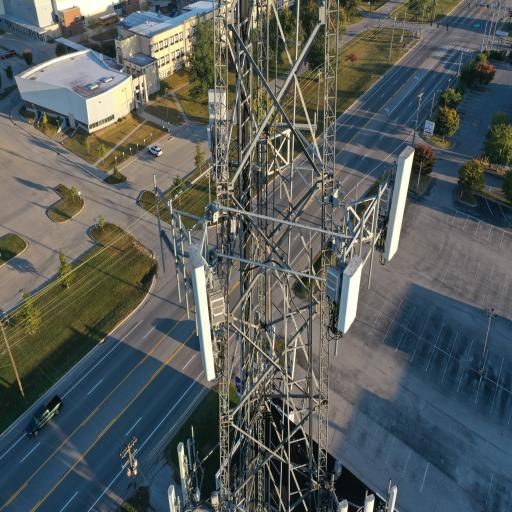supporting_tower: (145, 0, 413, 512)
